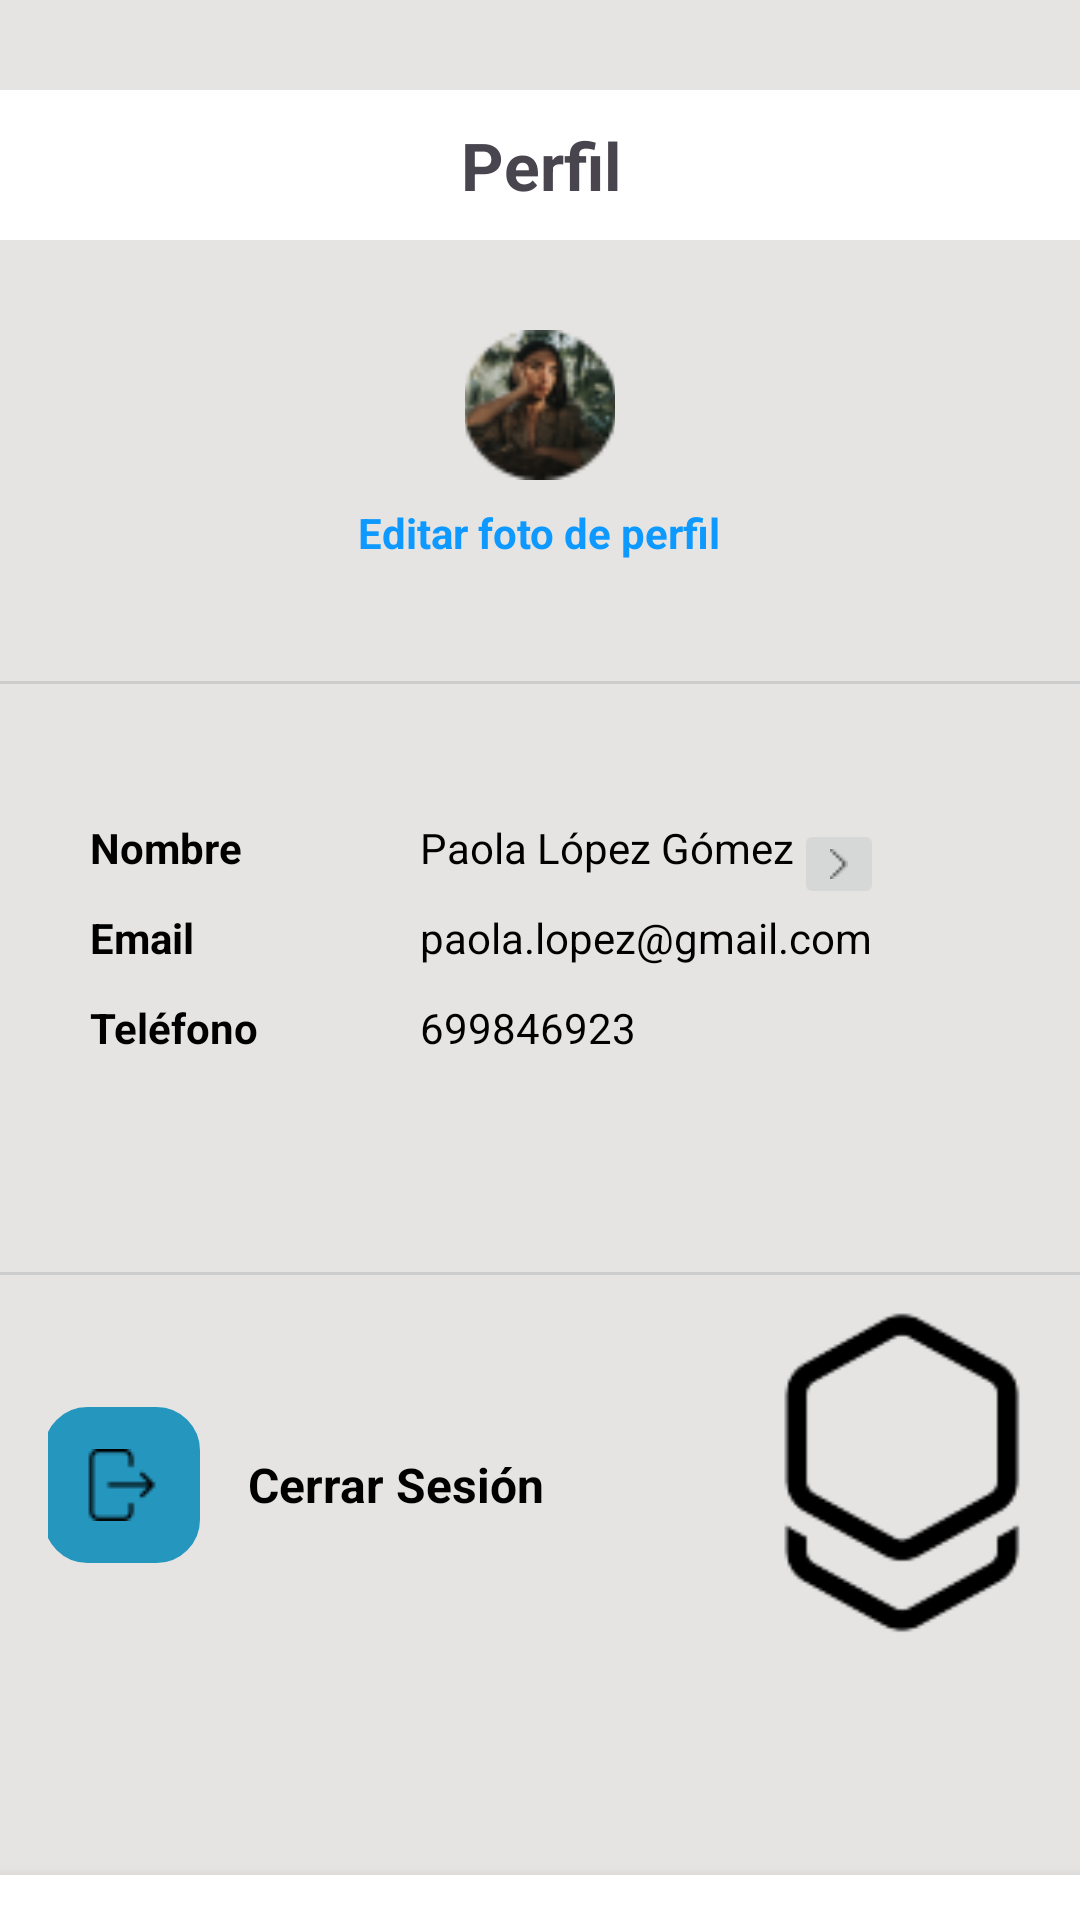

Screen size 1080w x 1920h. Icon name, then its box in pixels as (x1, y1, x2, y2):
cerrarsesion: (48, 1407, 200, 1563)
